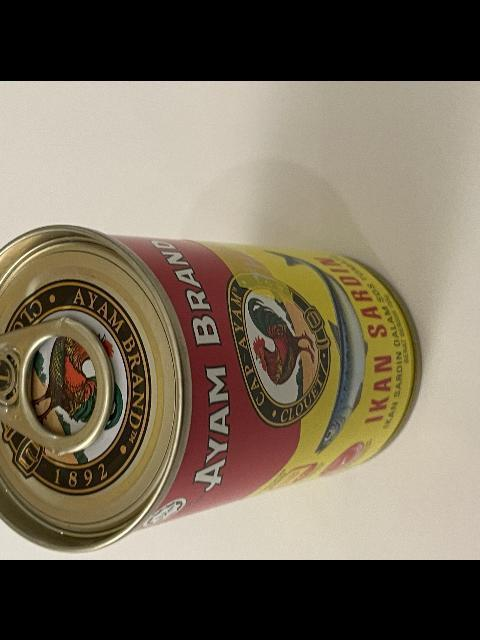foodcan: (0, 222, 426, 551)
